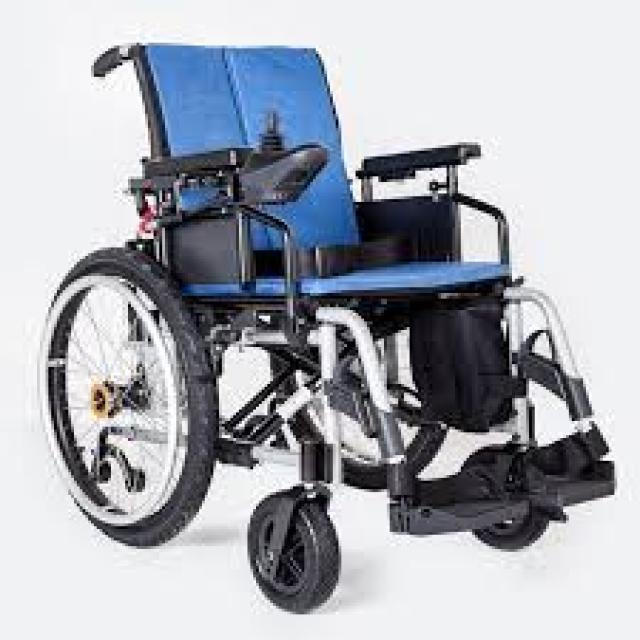wheelchairs: (40, 31, 620, 629)
